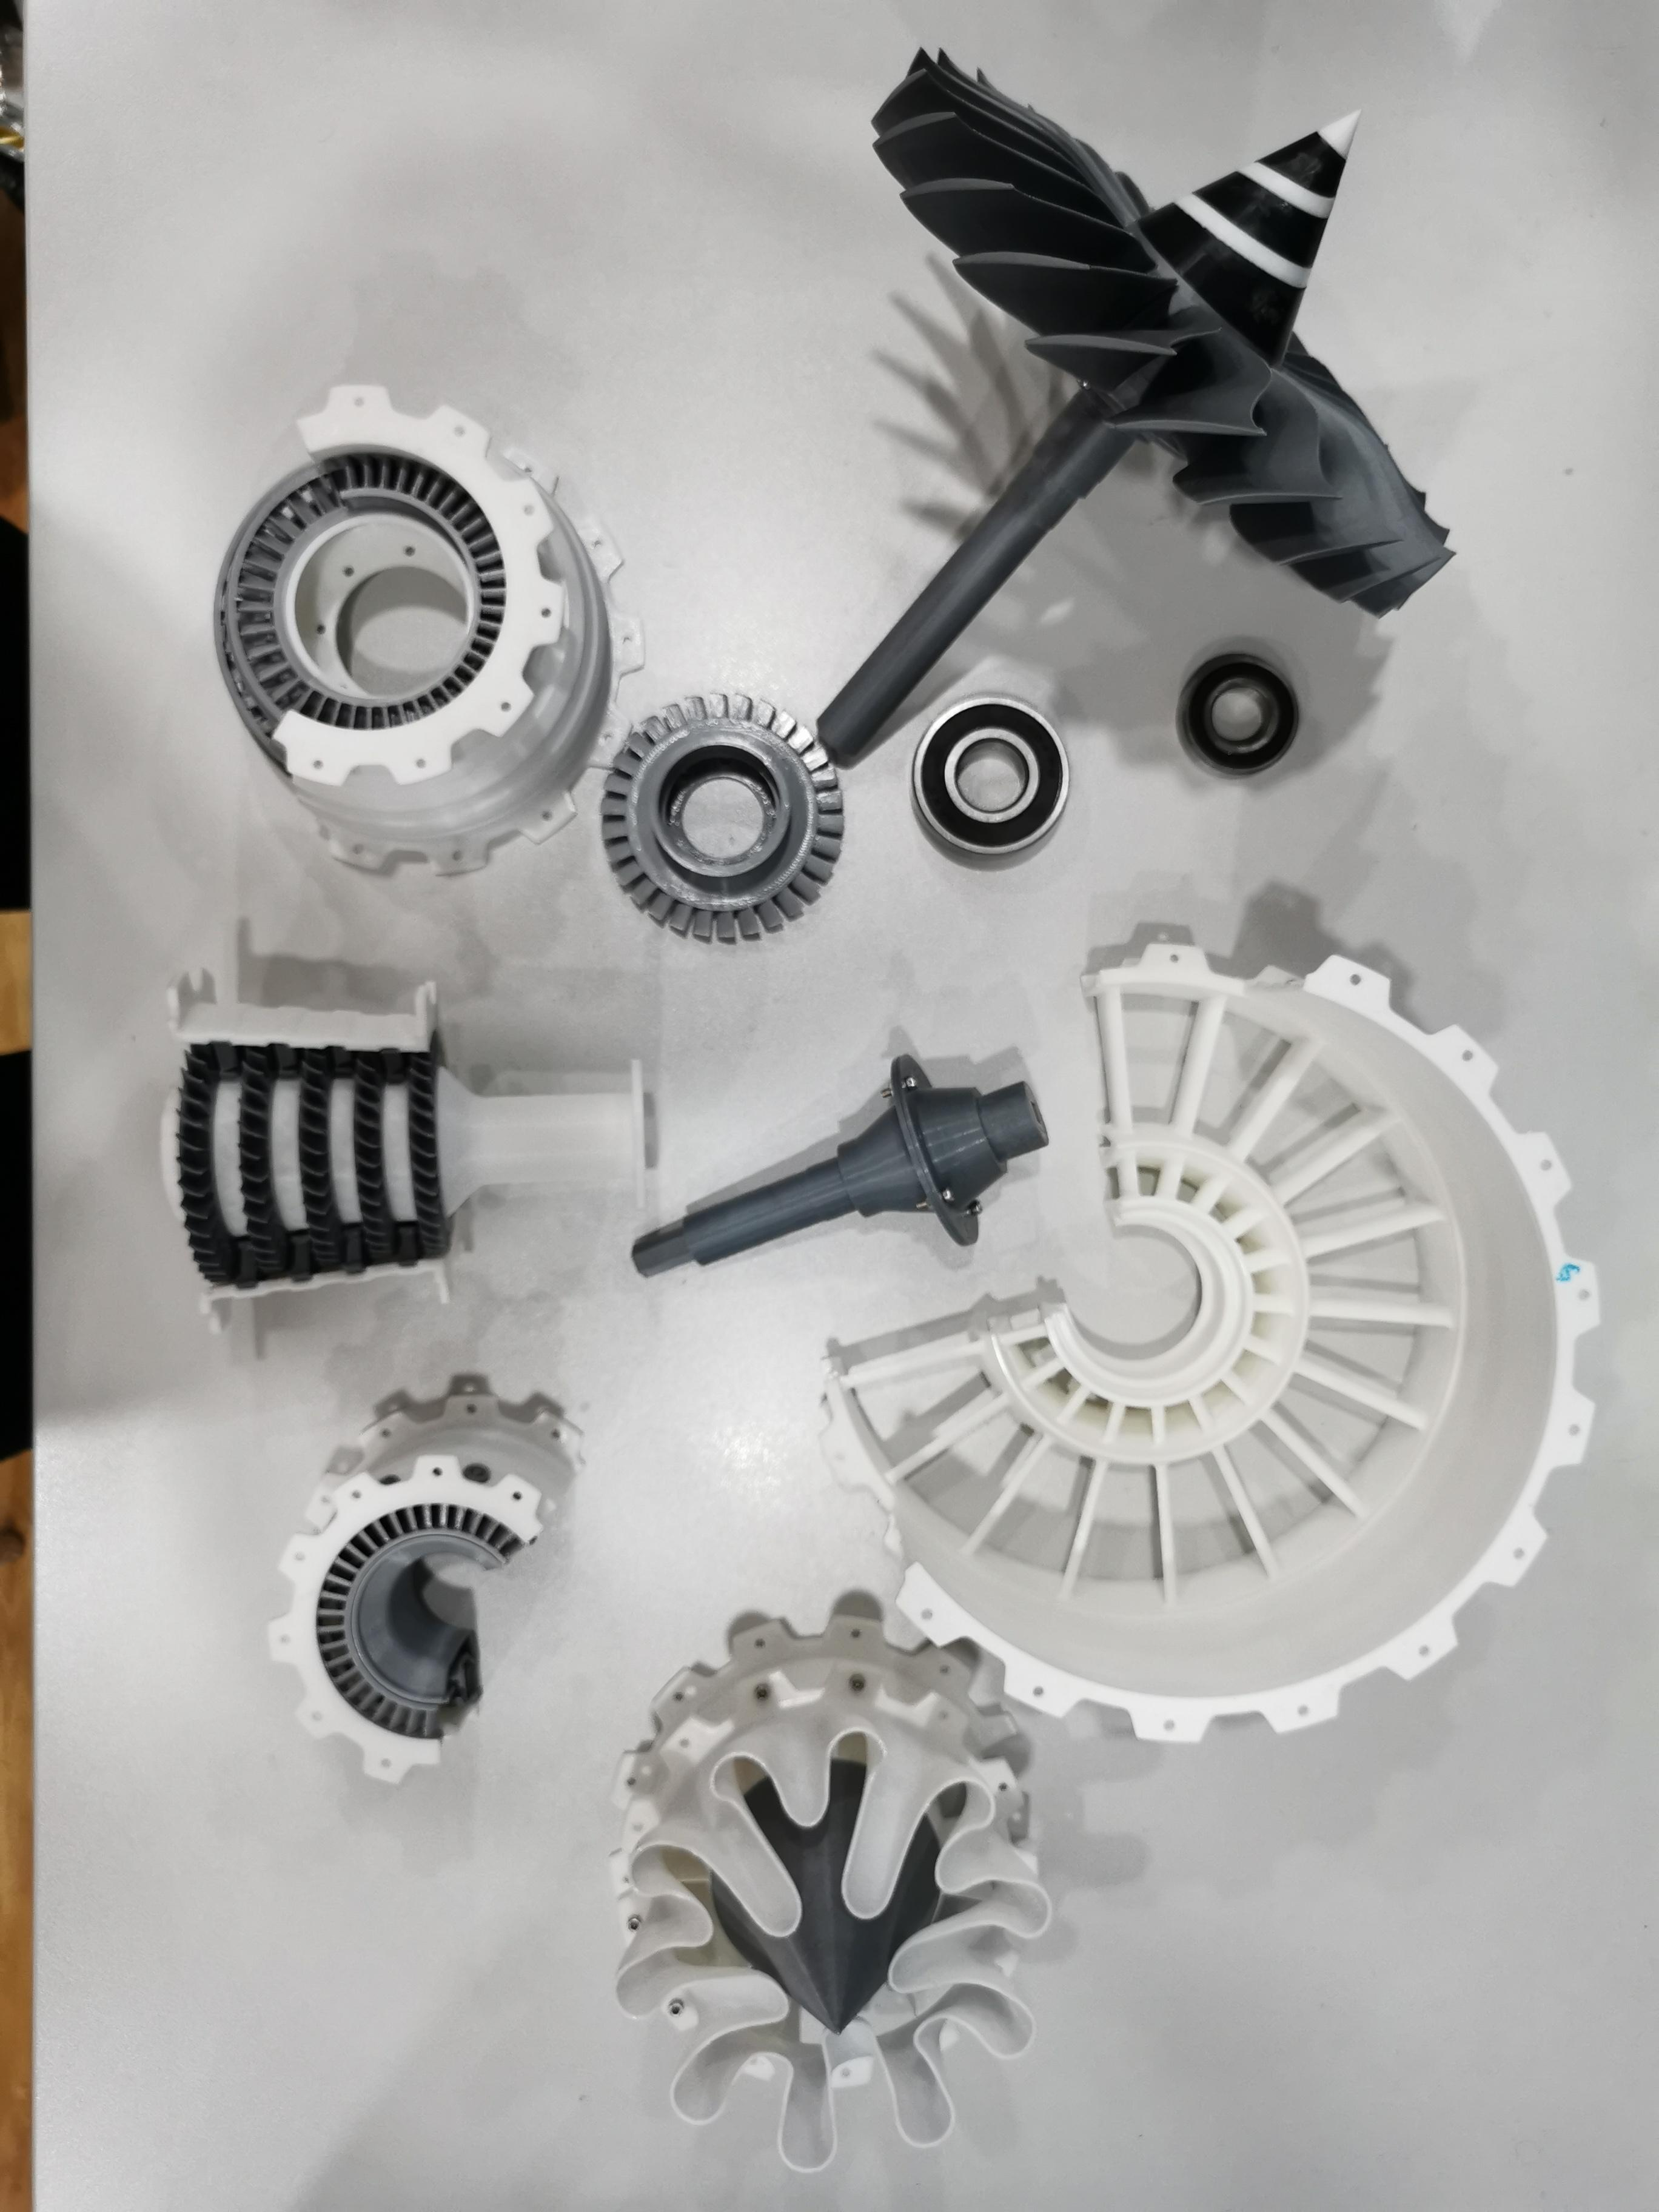Bearing-6003: (1162, 629, 1316, 803)
Bearing-6204: (899, 674, 1080, 876)
Combustion Section: (258, 1376, 603, 1794)
Fan Casing and Support: (800, 932, 1614, 1754)
Fan and Low Pressure Shaft: (812, 42, 1459, 779)
HPT Section: (591, 674, 870, 944)
High Pressure Spool: (141, 960, 666, 1346)
LPT Section: (190, 366, 652, 883)
Low Pressure Spool: (615, 1026, 1054, 1292)
Nozzle Section: (584, 1602, 1054, 2179)
